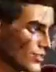kevin: (2, 0, 48, 71)
